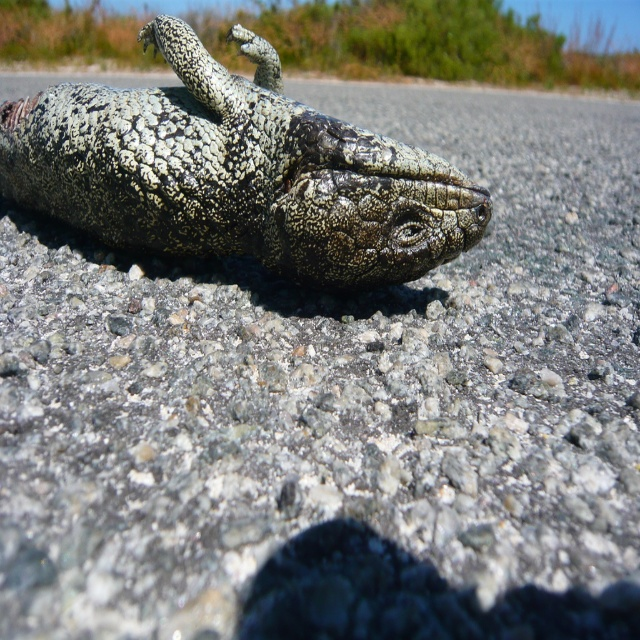Lizard: (14, 9, 529, 295)
